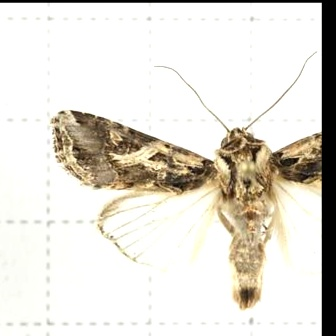Spodoptera litura: (49, 50, 321, 309)
